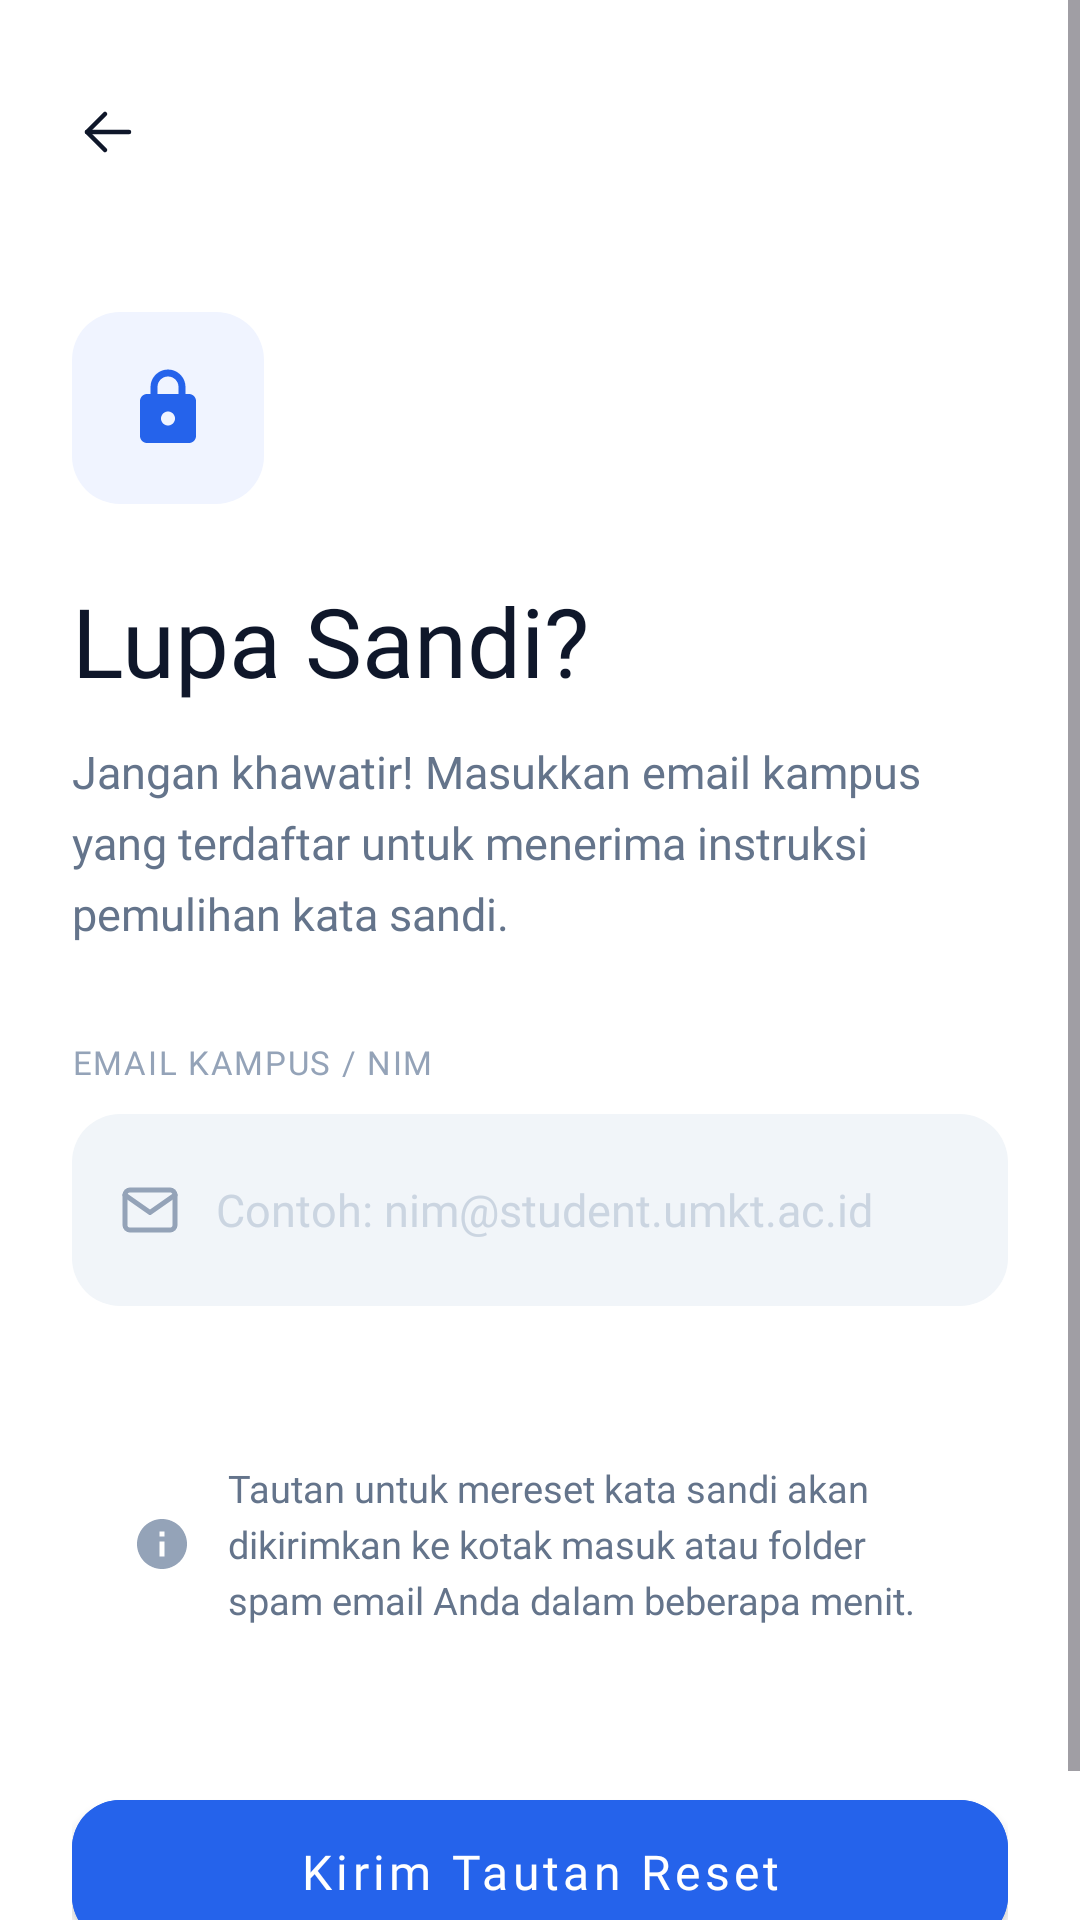

Icons on this 1080 × 1920 Android screen, each with the point to tap as [x,y]:
arrow back modern: [107,132]
info modern: [162,1544]
lock padat: [168,406]
